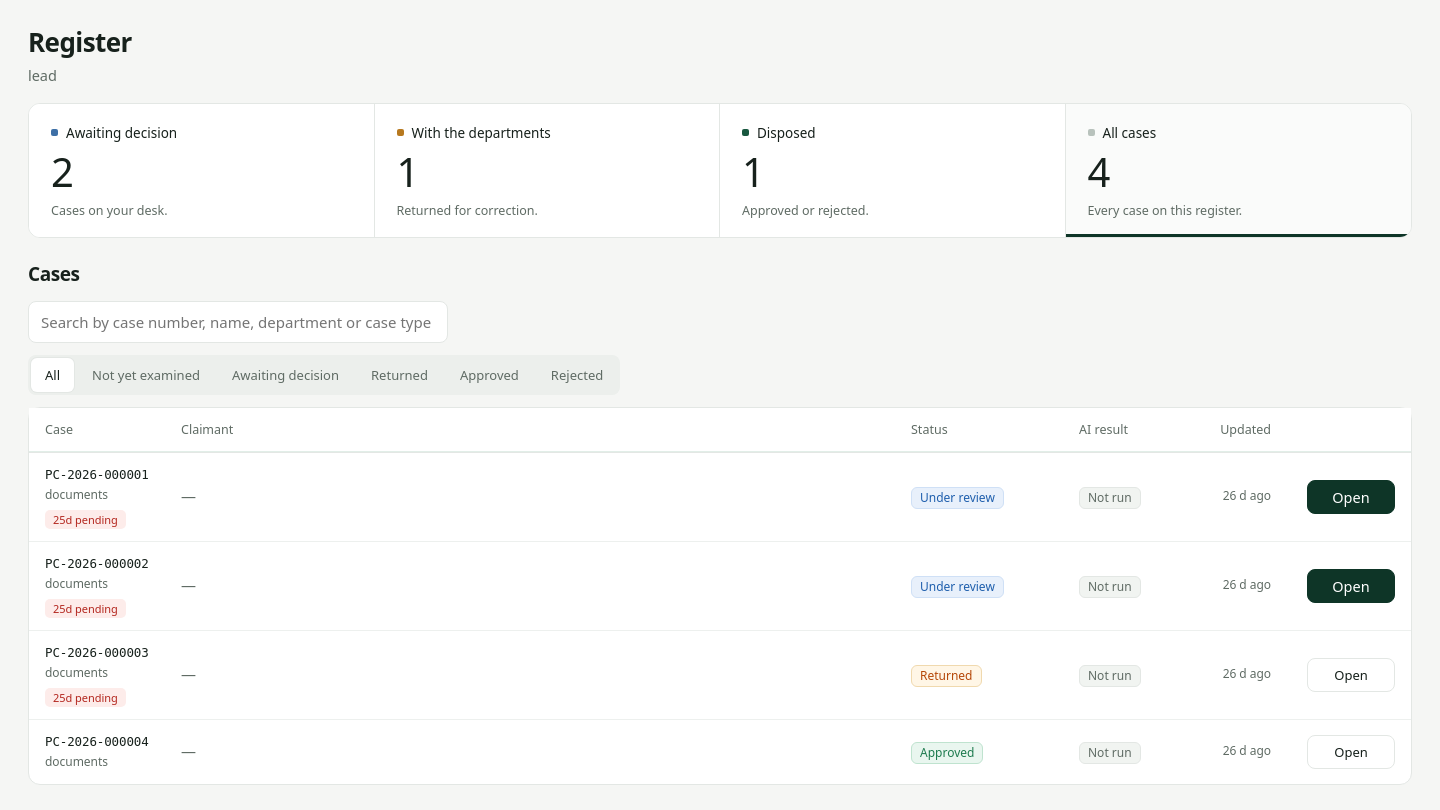
Test: a dashboard tile opens that list of cases (24 Oct 2026) › and says which tile it is showing, where the other filters say so
The width and height of the screenshot is (1440, 810).
Click the tab "With the departments 1 Returned for correction.". click: (481, 133)
box: top-left (374, 104), bottom-right (720, 237)
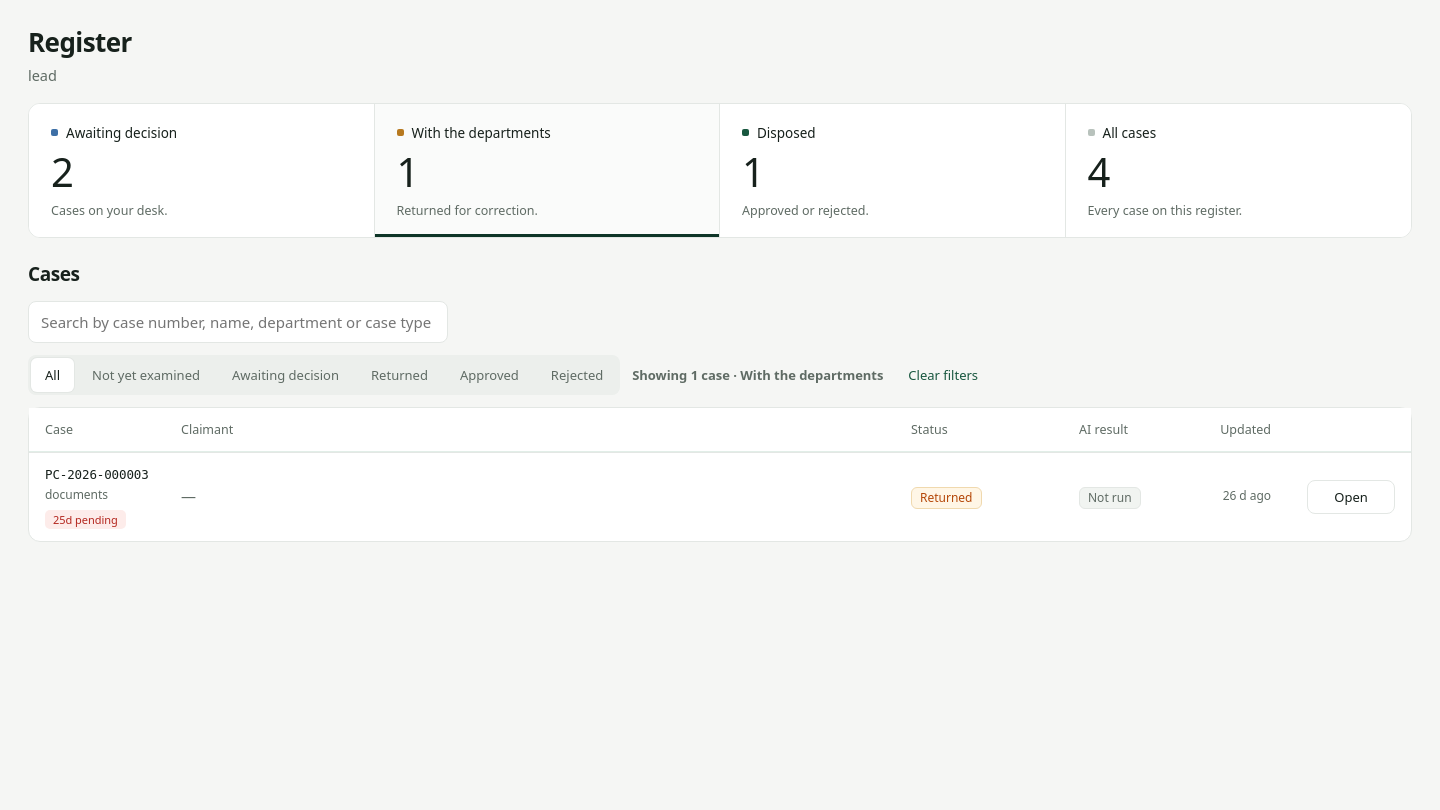
Check: the message reads "Showing 1 case · With the departments", box top-left (632, 365), bottom-right (883, 385)
